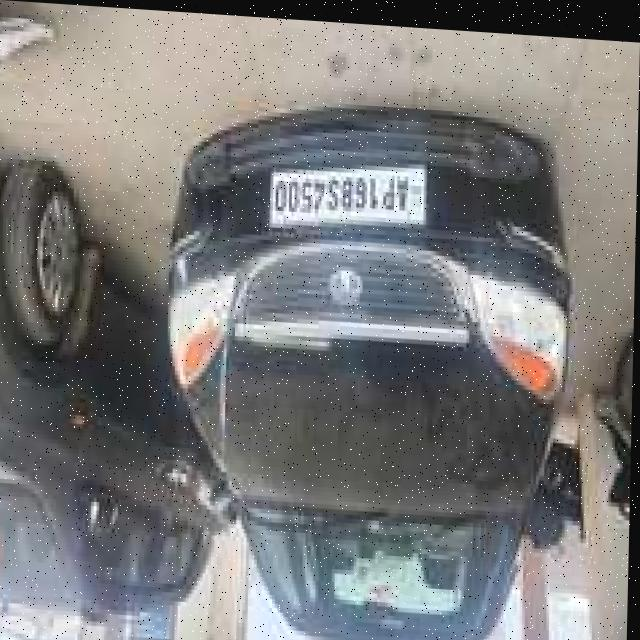plate: (266, 151, 428, 234)
